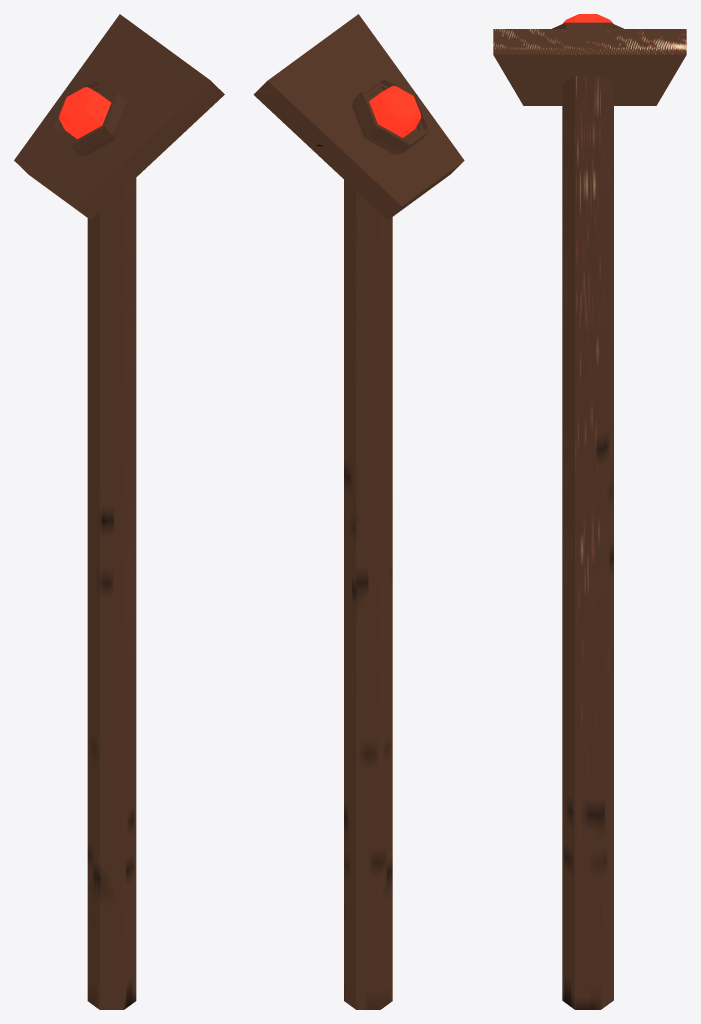
The model's file is Button_RF.glb.
3 renders of one model, left to right at view 1: azimuth 30°, elevation 25°; view 2: azimuth 150°, elevation 25°; view 3: azimuth 270°, elevation 25°, orthographic. The views are drawn at different scales.
Visible parts, largest first — view 1: Button_RF; view 2: Button_RF; view 3: Button_RF.
Part boxes in pixels (x1,y1,x2,y2): Button_RF: [14, 14, 224, 1009]; Button_RF: [253, 14, 464, 1009]; Button_RF: [493, 14, 686, 1009].
Bounding box in the file's own units: 0.5162 × 3.45 × 0.6057.
2 materials, 1 textured.
